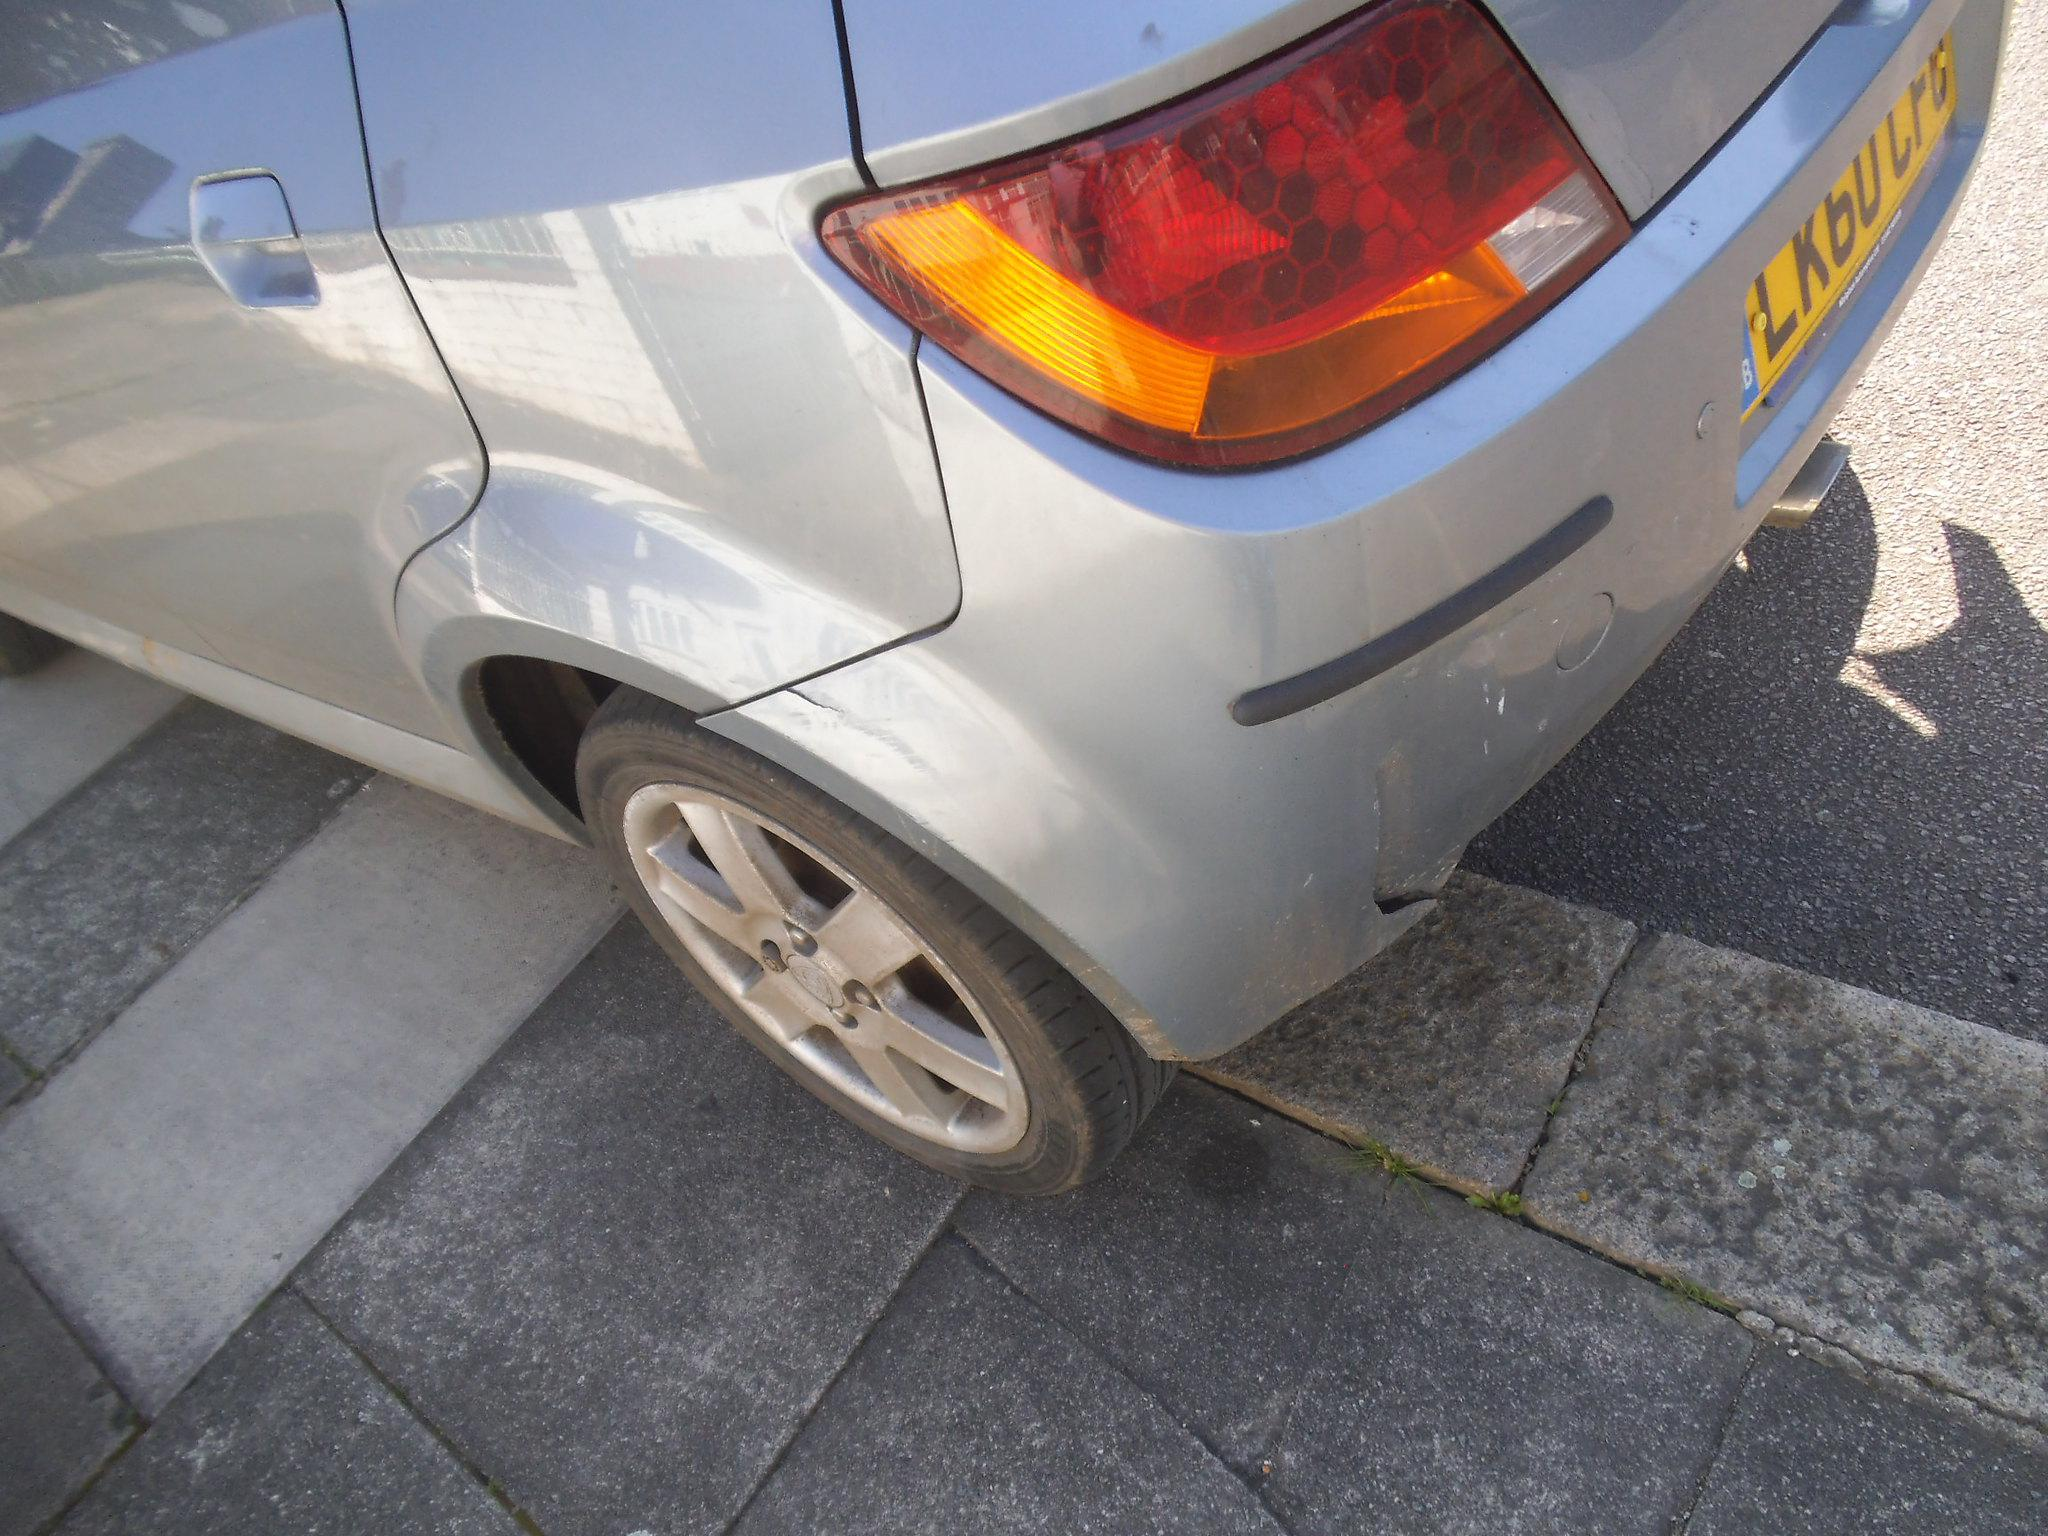rear-bumper-dent: (776, 560, 1459, 1026)
